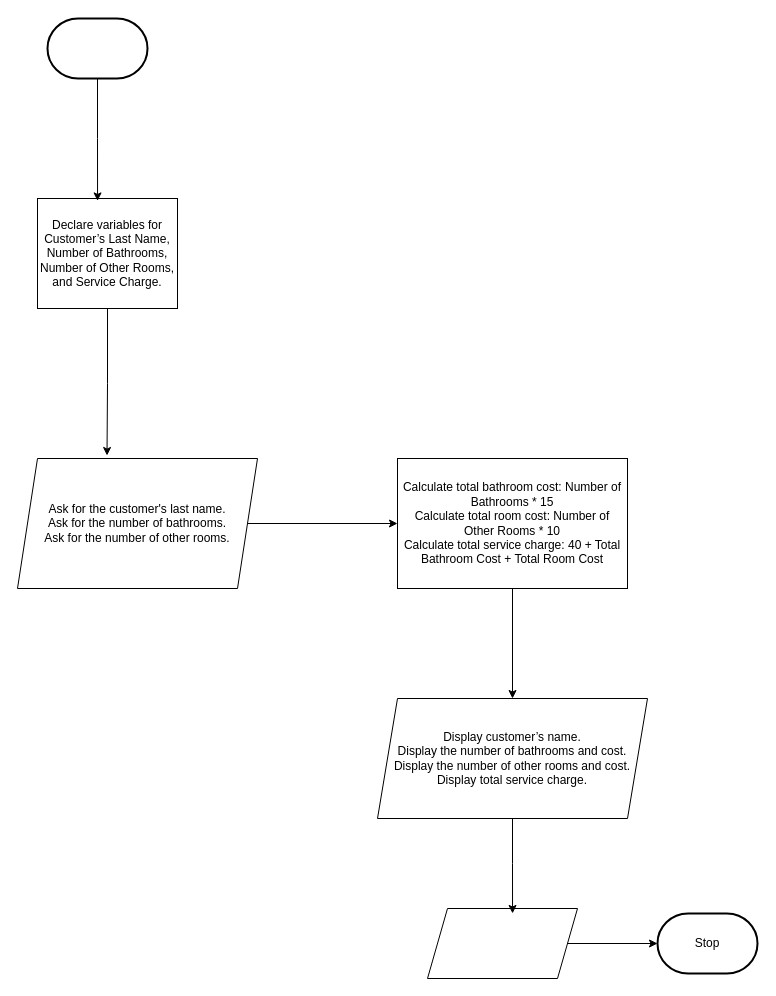
Image size: 776x996. Some labels were removed from this diagram. Each missing label, with the centre of its shape:
Program Complete: [502,943]
Start: [97,48]
